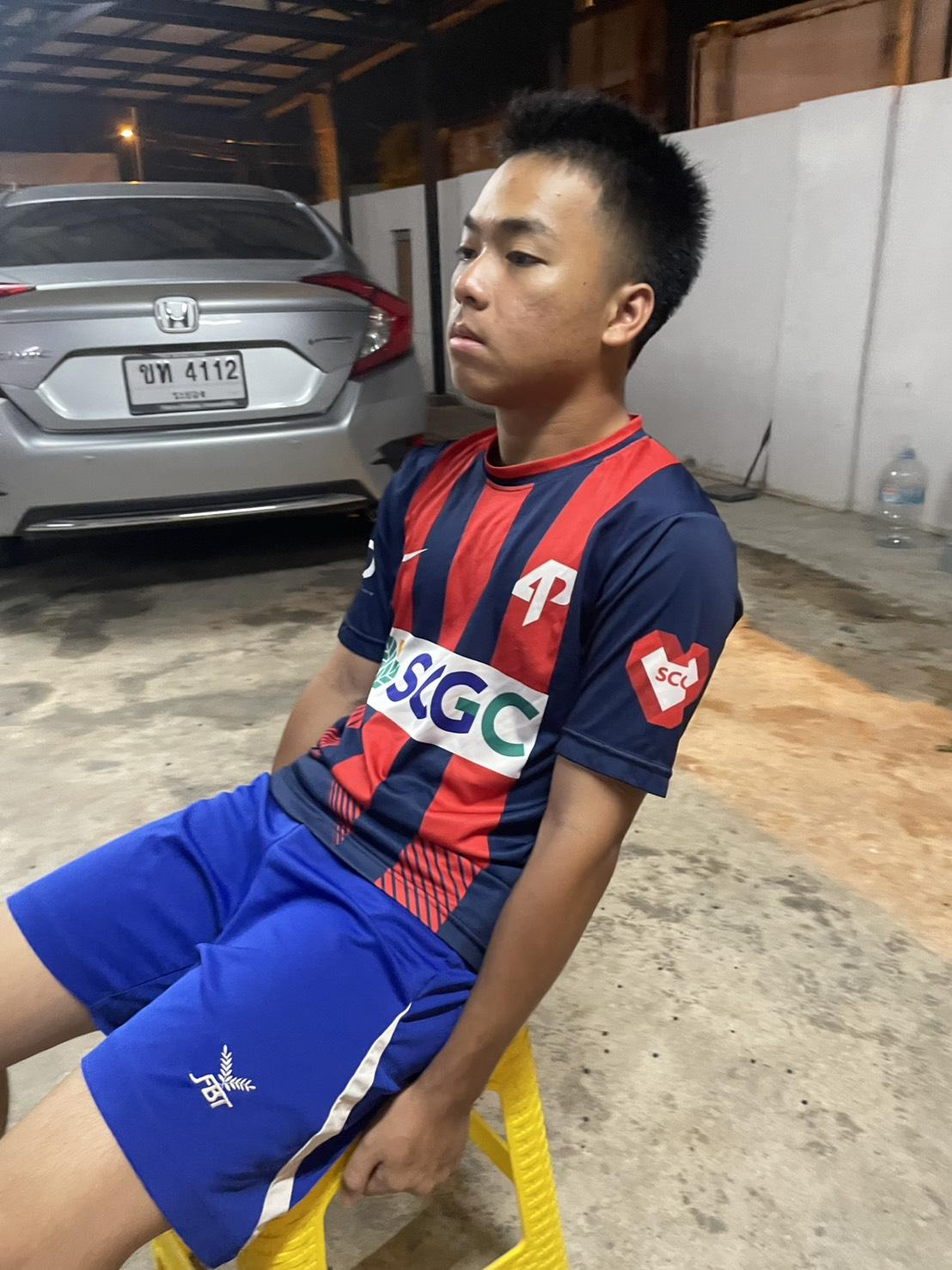BadPosture: (214, 93, 735, 1057)
